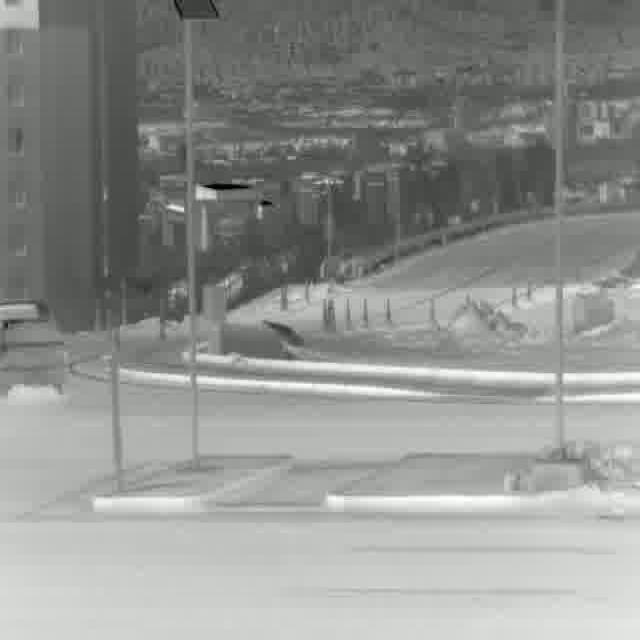Car: (0, 290, 67, 394)
